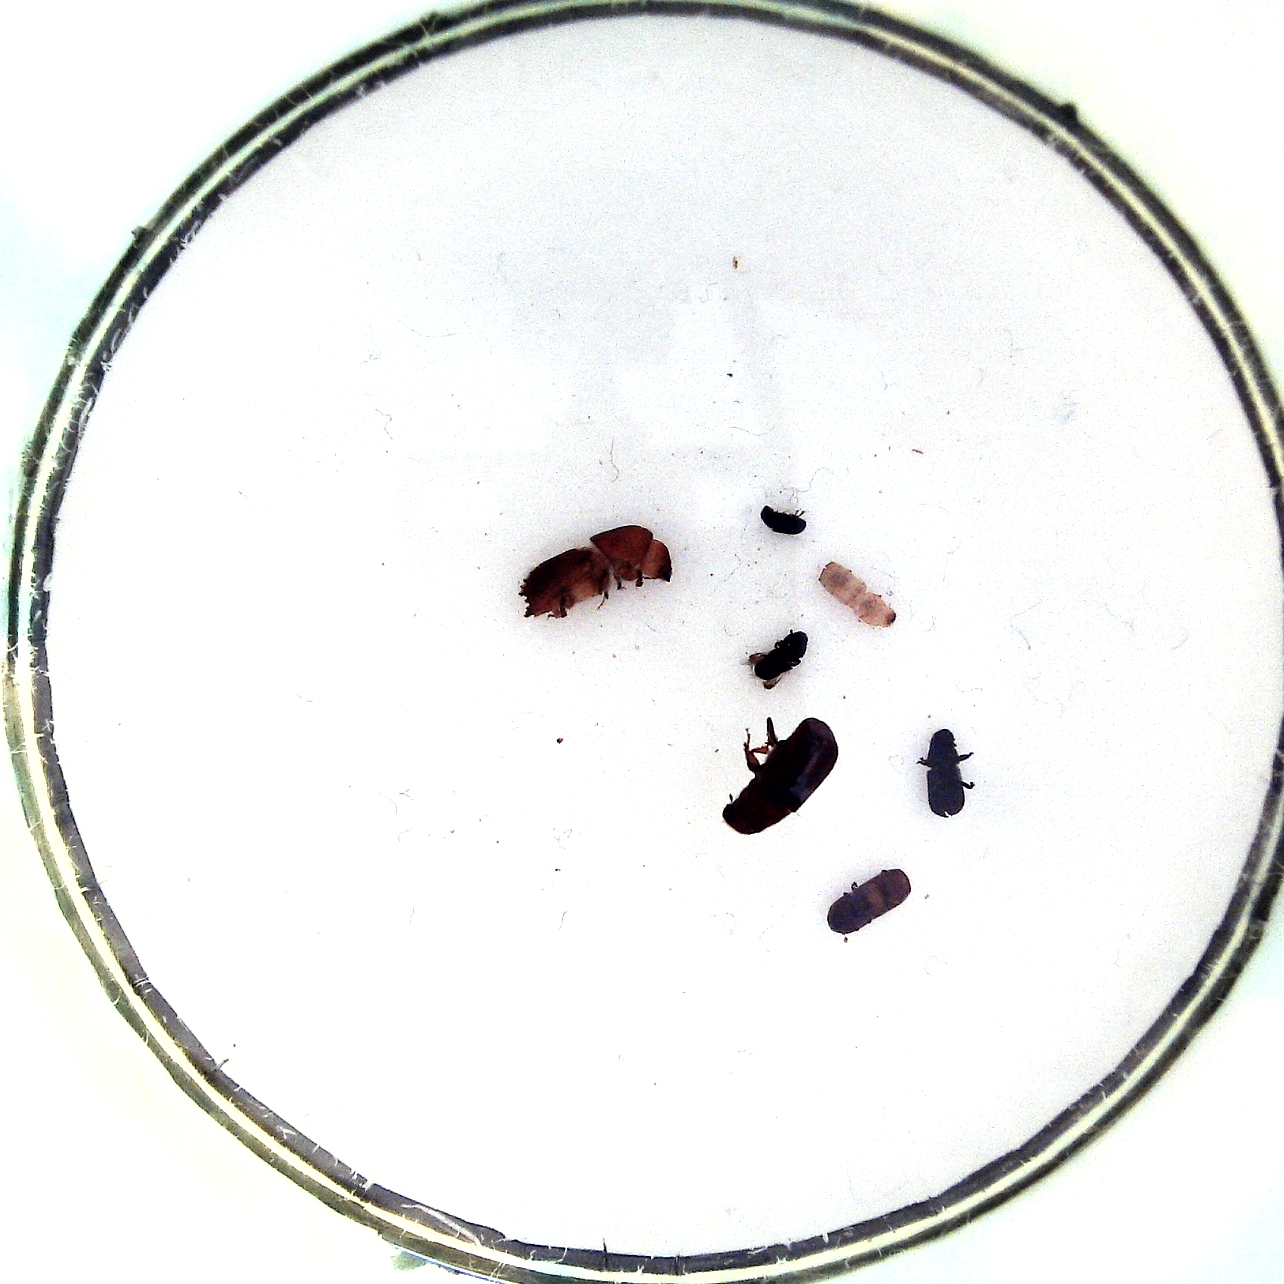Boerner: (511, 523, 681, 626)
Leconte: (715, 713, 843, 840)
Linnaeus: (823, 861, 917, 938)
acuminatus: (815, 554, 902, 633)
armandi: (917, 725, 981, 825)
coleoptera: (731, 626, 812, 693), (756, 499, 812, 539)
